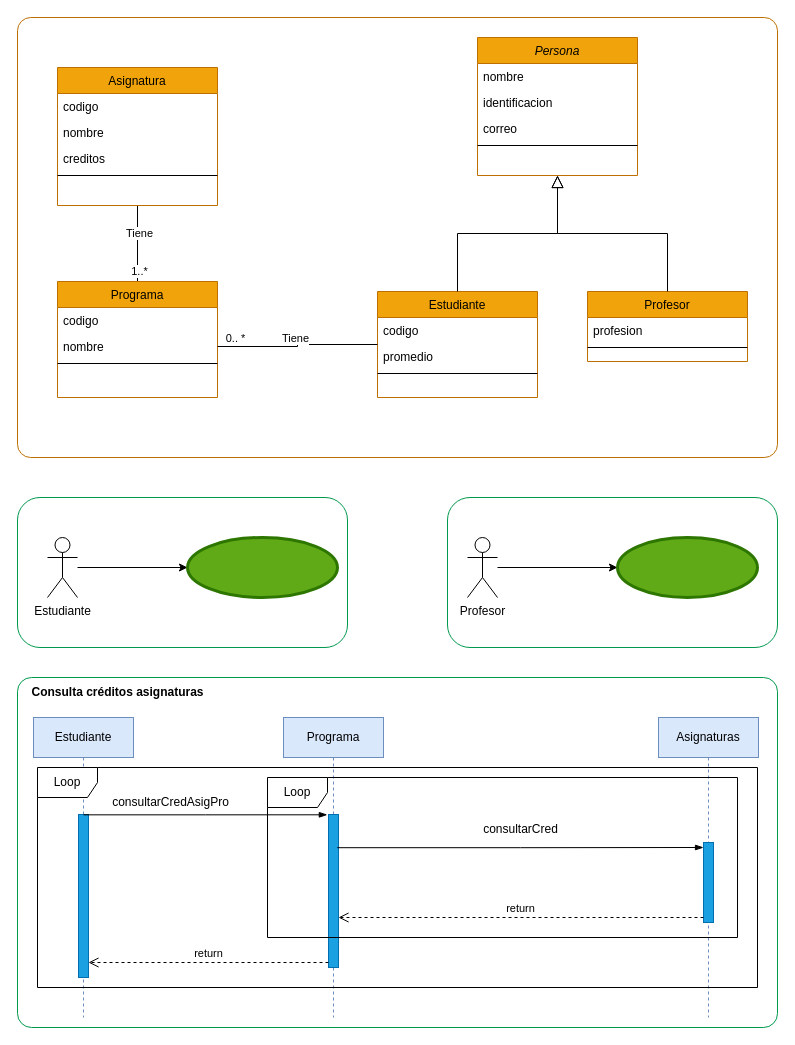
Image size: 795x1045. Some labels were removed from this diagram. The shapes that lost their labels are listed below. From the top down, each one's centre as x and y in pixels, then its label:
At (262,567): "consultar créditos asignaturas".
At (687,567): "Consultar promedios estudiantes".
